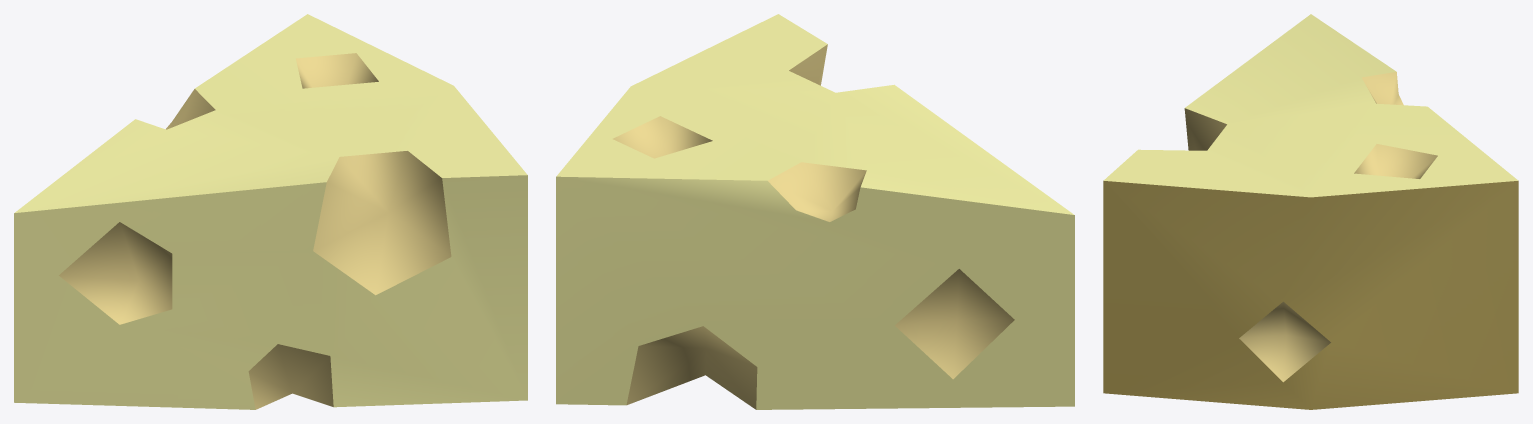
File: Cheese_02.fbx
3 renders of one model, left to right at view 1: azimuth 30°, elevation 25°; view 2: azimuth 150°, elevation 25°; view 3: azimuth 270°, elevation 25°, orthographic. The views are drawn at different scales.
Parts seen in each view (by area): view 1: Cheese_02; view 2: Cheese_02; view 3: Cheese_02.
Boxes of the visible parts, x1=… form: Cheese_02: x1=14, y1=14, x2=527, y2=409; Cheese_02: x1=556, y1=14, x2=1074, y2=409; Cheese_02: x1=1103, y1=14, x2=1518, y2=409.
Size of the model in its own units: 199 by 97.5 by 173.
